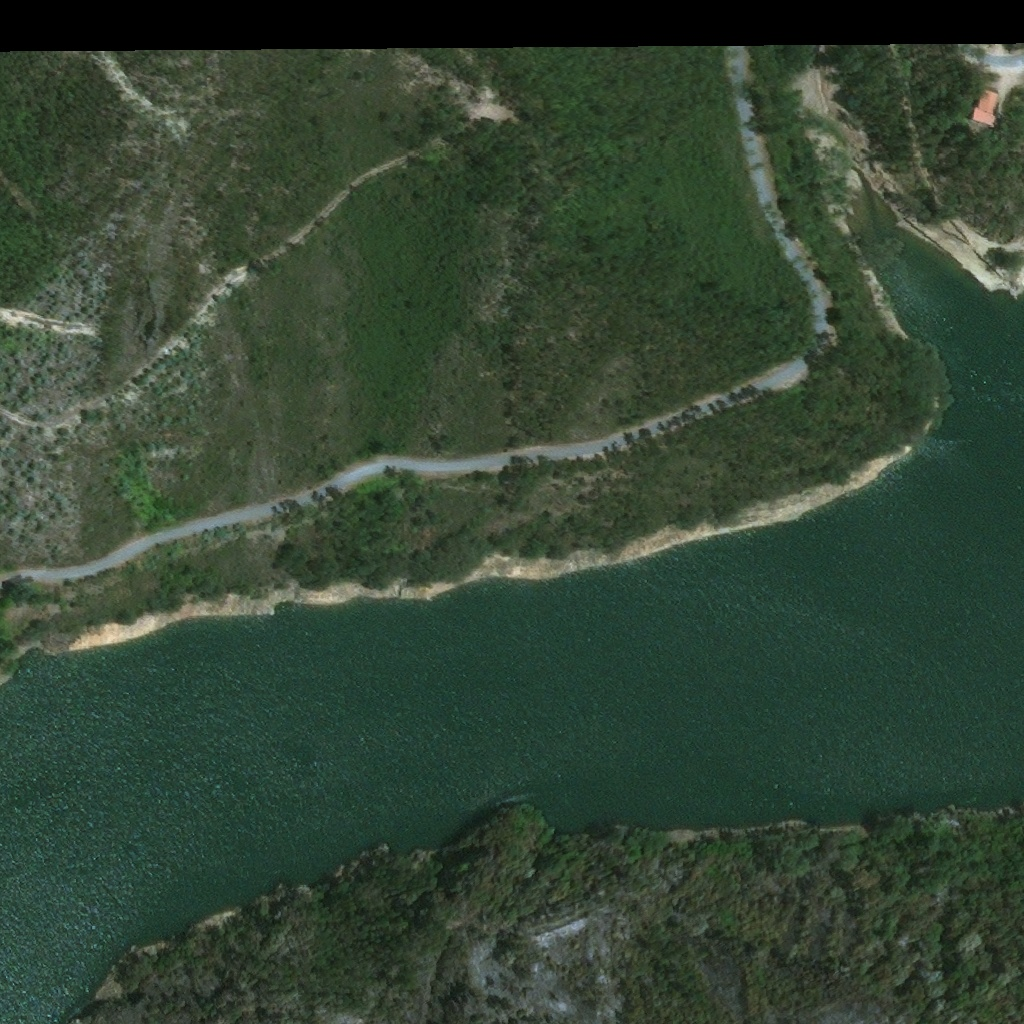0 no-damage: (972, 88, 1000, 127)
